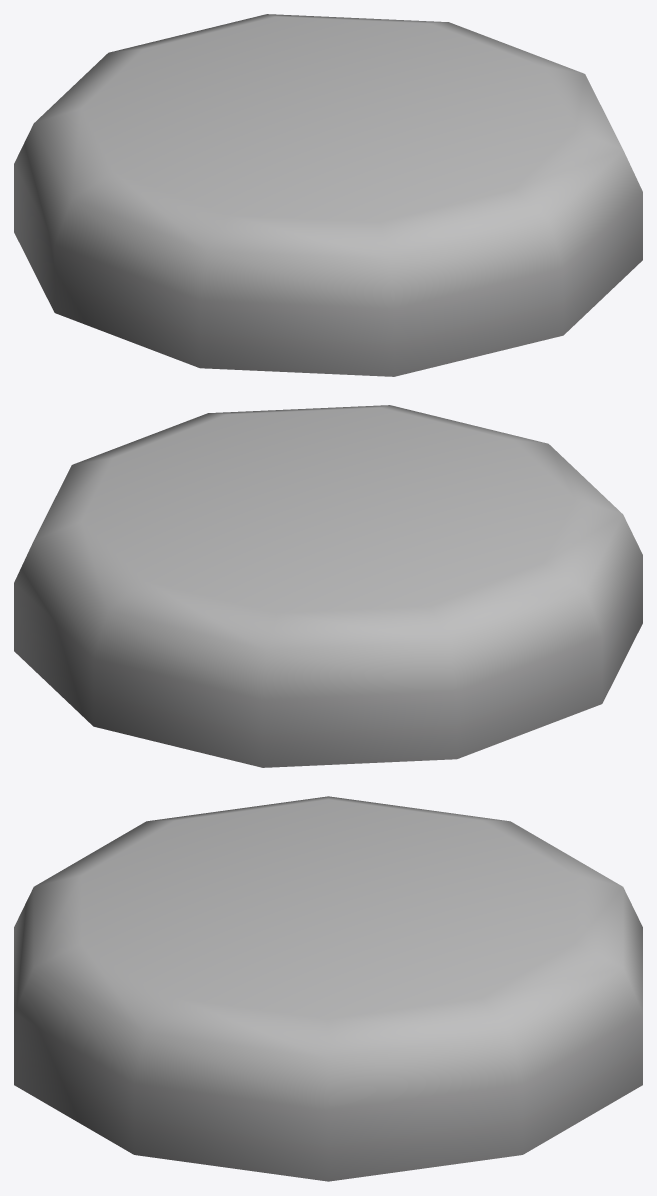
The model's file is shelf 1.fbx.
3 renders of one model, top to bottom at view 1: azimuth 30°, elevation 25°; view 2: azimuth 150°, elevation 25°; view 3: azimuth 270°, elevation 25°, orthographic. The views are drawn at different scales.
Visible parts, largest first — view 1: shelf; view 2: shelf; view 3: shelf.
Part boxes in pixels (x1=…): shelf: x1=14, y1=14, x2=642, y2=376; shelf: x1=14, y1=405, x2=642, y2=767; shelf: x1=14, y1=796, x2=642, y2=1181.
Size of the model in its own units: 1.17 by 0.2588 by 1.11.
